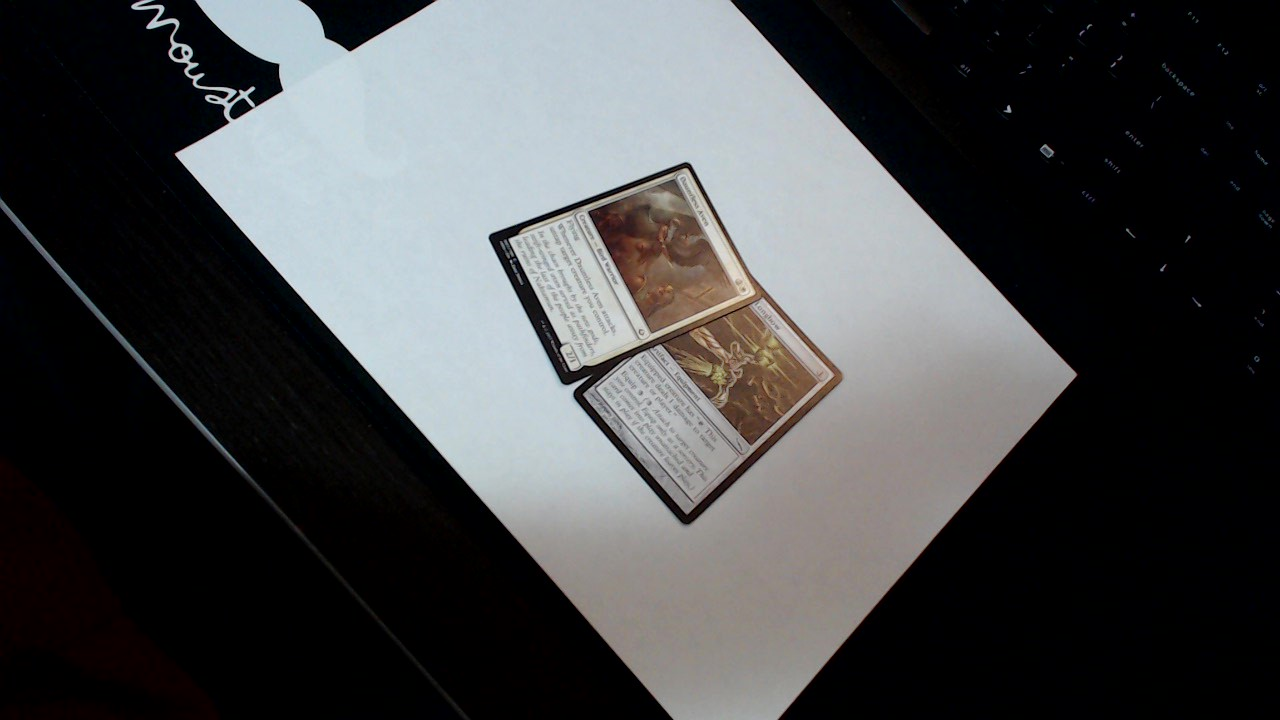MTG Card: (570, 266, 849, 528), (484, 155, 765, 389)
